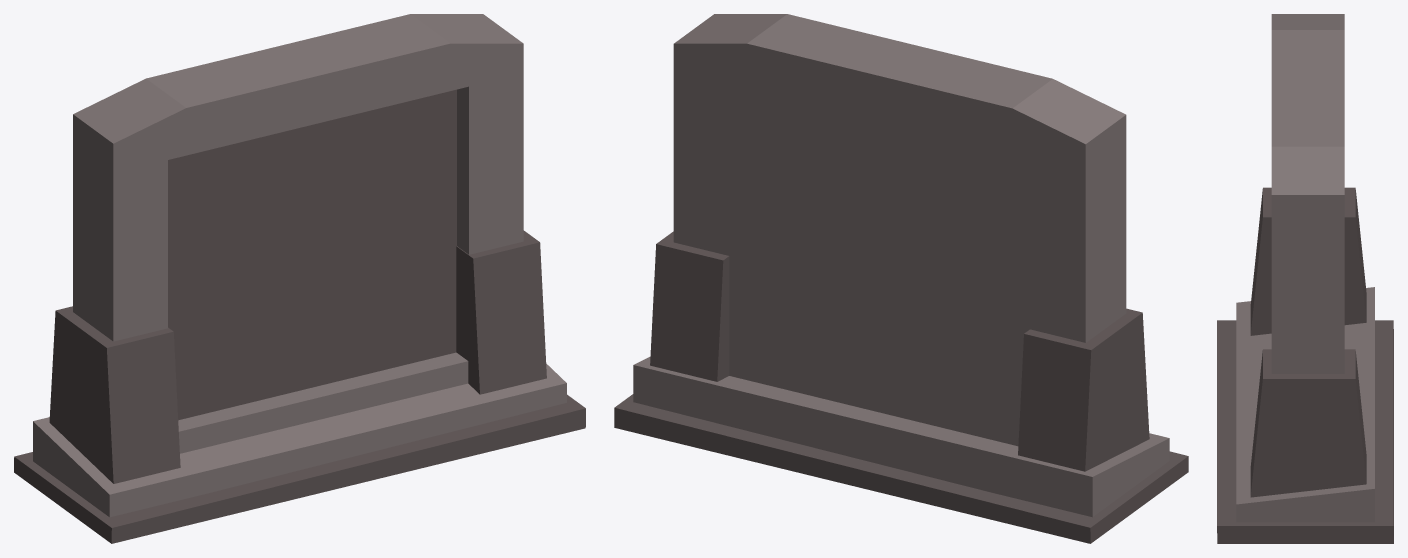
Rendered from HWN20_Grave_02.glb.
3 views of the same model, side by side, from view 1: azimuth 30°, elevation 25°; view 2: azimuth 150°, elevation 25°; view 3: azimuth 270°, elevation 25° (orthographic). The views are drawn at different scales.
Visible parts, largest first — view 1: HWN20_Grave_02; view 2: HWN20_Grave_02; view 3: HWN20_Grave_02.
Boxes of the visible parts, left/top/right/bottom form: HWN20_Grave_02: left=14, top=14, right=585, bottom=543; HWN20_Grave_02: left=614, top=14, right=1188, bottom=543; HWN20_Grave_02: left=1217, top=14, right=1393, bottom=543.
Size of what is drawn, in the model's own units: 1.47 by 1.15 by 0.5235.
Materials: 1 (1 with a texture image).
